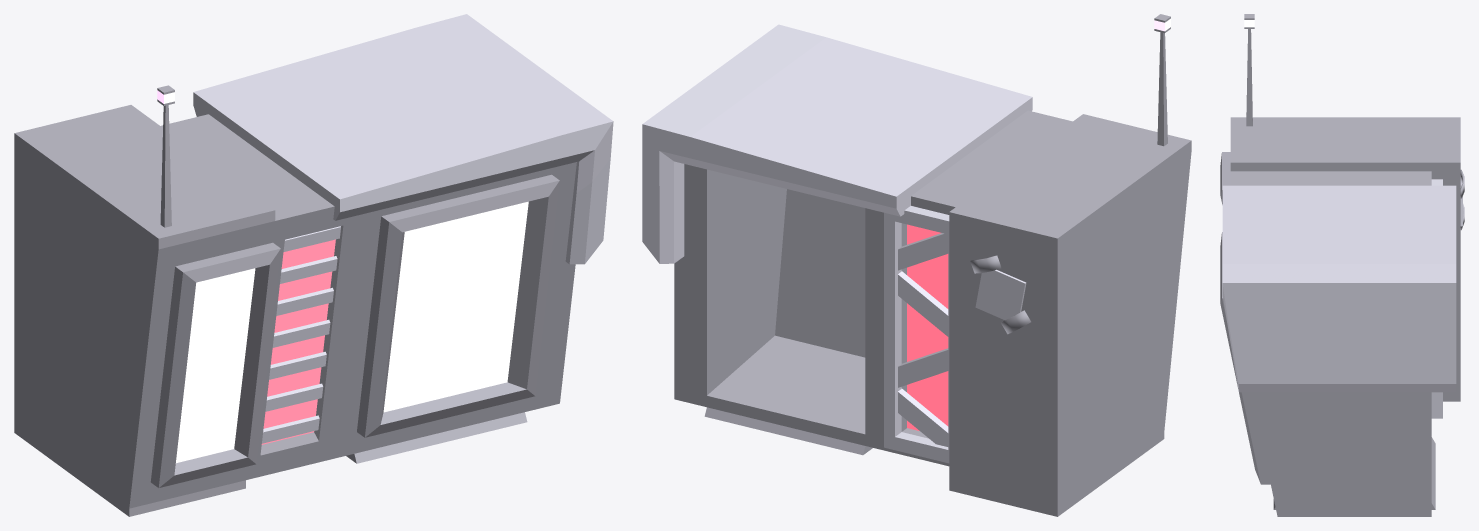
The model's file is Landing_Pod.fbx.
The picture shows the model from 3 angles, left to right: view 1: azimuth 30°, elevation 25°; view 2: azimuth 150°, elevation 25°; view 3: azimuth 270°, elevation 25°; orthographic projection. The views are drawn at different scales.
Visible parts, largest first — view 1: LandingPod_base, LandingPod_shield, LandingPod_grill_back, LandingPod_antenna; view 2: LandingPod_base, LandingPod_shield, LandingPod_grill_front, LandingPod_patch, LandingPod_antenna; view 3: LandingPod_shield, LandingPod_base, LandingPod_antenna, LandingPod_grill_front.
Part boxes in pixels (x1,y1,x2,y2): LandingPod_base: (14, 105, 576, 516); LandingPod_shield: (193, 14, 613, 264); LandingPod_grill_back: (262, 226, 340, 443); LandingPod_antenna: (157, 85, 174, 227); LandingPod_base: (674, 110, 1191, 516); LandingPod_shield: (642, 24, 1032, 263); LandingPod_grill_front: (884, 206, 949, 463); LandingPod_patch: (970, 255, 1031, 334); LandingPod_antenna: (1154, 14, 1170, 146); LandingPod_shield: (1222, 185, 1456, 392); LandingPod_base: (1220, 117, 1460, 516); LandingPod_antenna: (1244, 14, 1254, 126); LandingPod_grill_front: (1431, 179, 1442, 418).
Size of the model in its own units: 0.9999 by 0.5902 by 0.9262.
